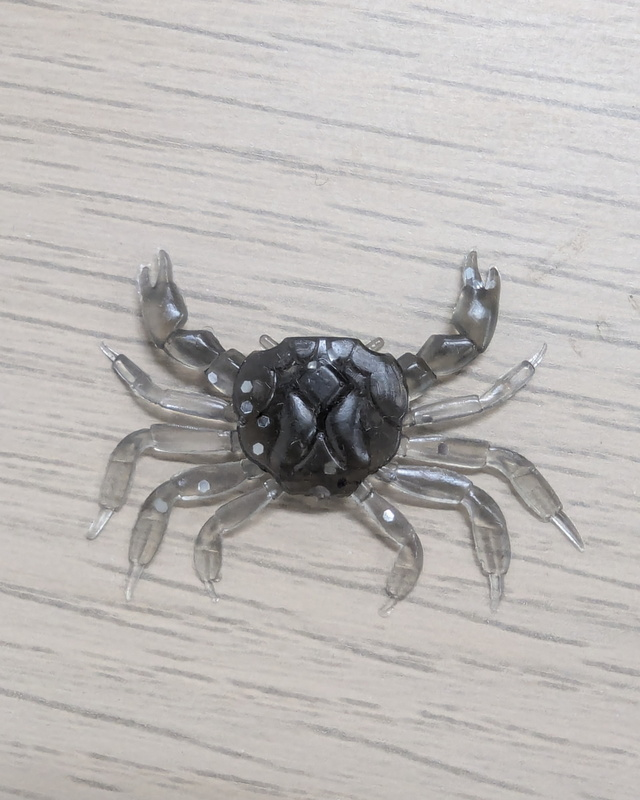crab1: (79, 243, 596, 625)
